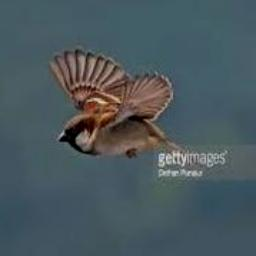Sparrow: (47, 46, 187, 160)
